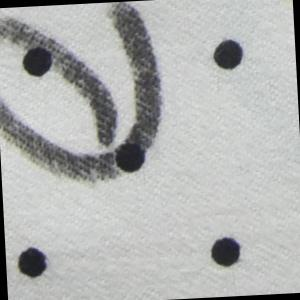Stain: (1, 1, 169, 193), (274, 1, 294, 6)
